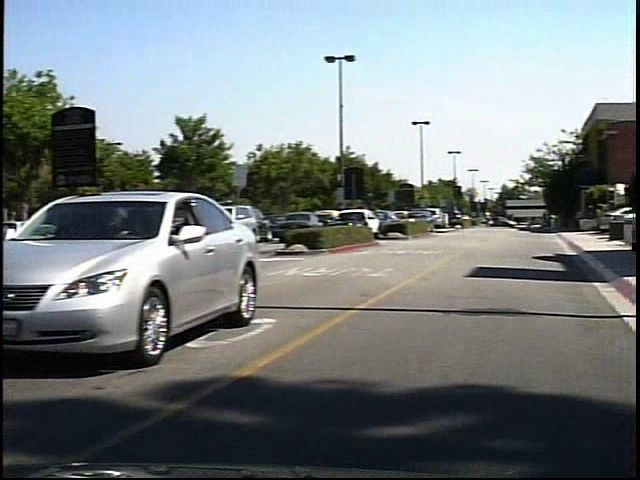person: (493, 208, 506, 231)
